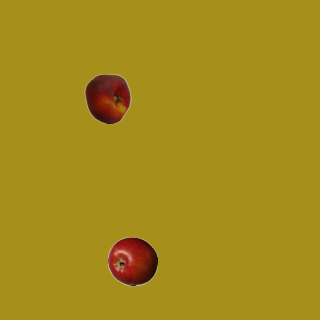Apple Braeburn: (107, 236, 157, 286)
Nectarine Flat: (82, 73, 132, 123)
